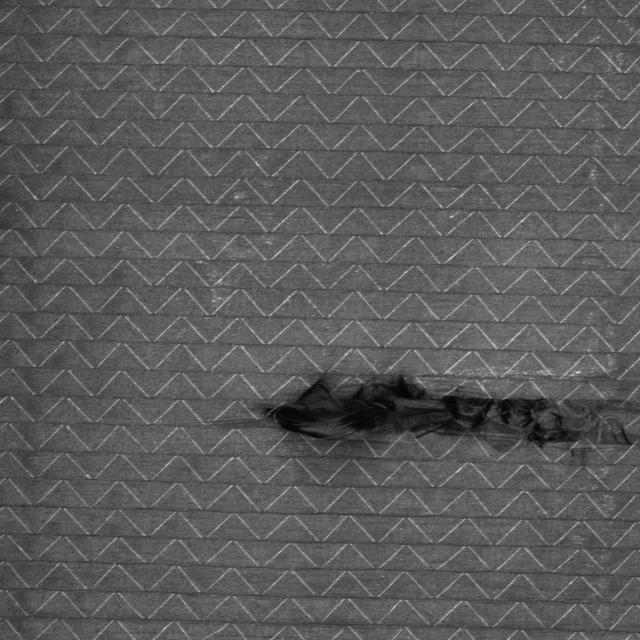carbon-fibre-defect: (247, 366, 639, 457)
